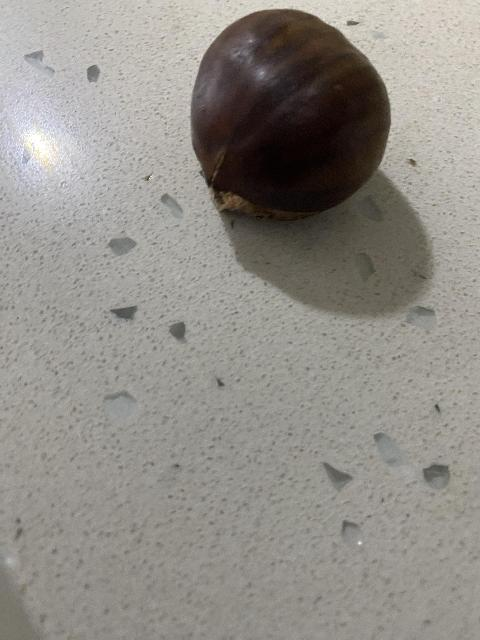Organik: (183, 13, 395, 217)
